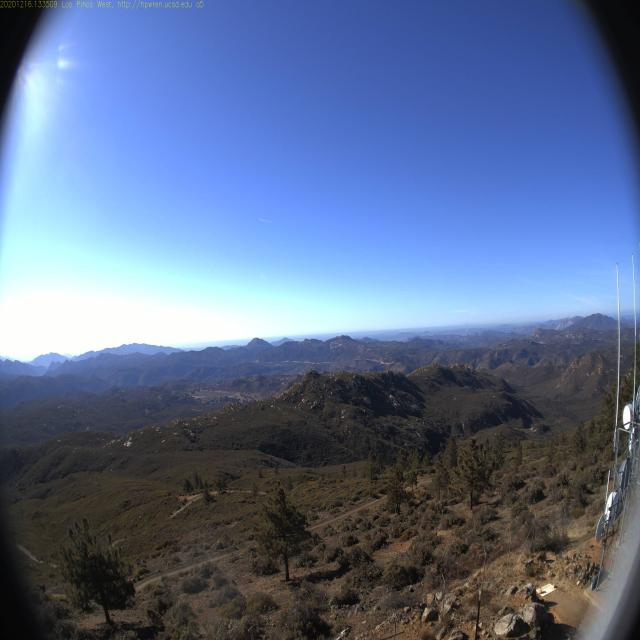smoke: (458, 319, 471, 343)
